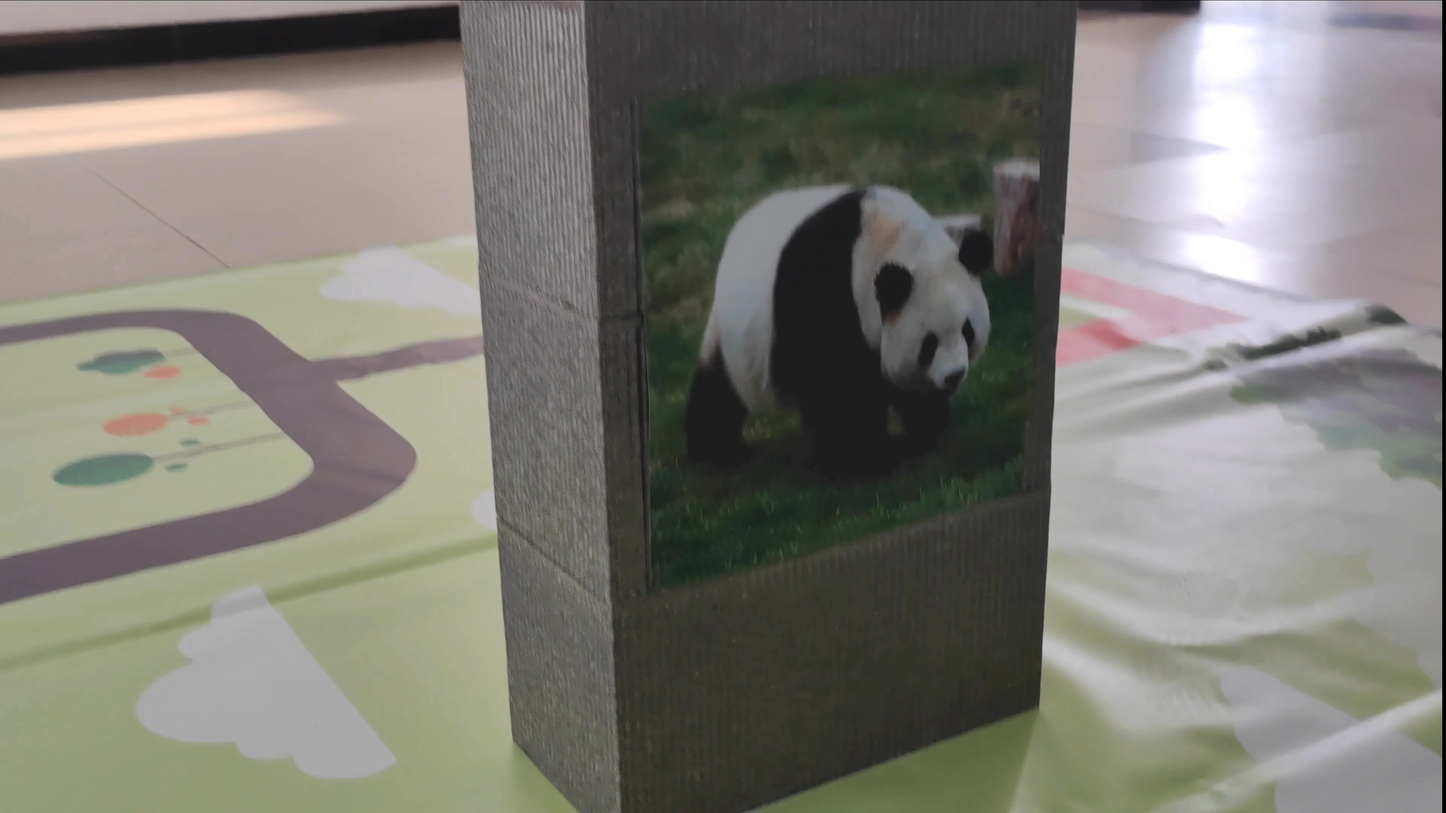panda: (657, 173, 1026, 475)
